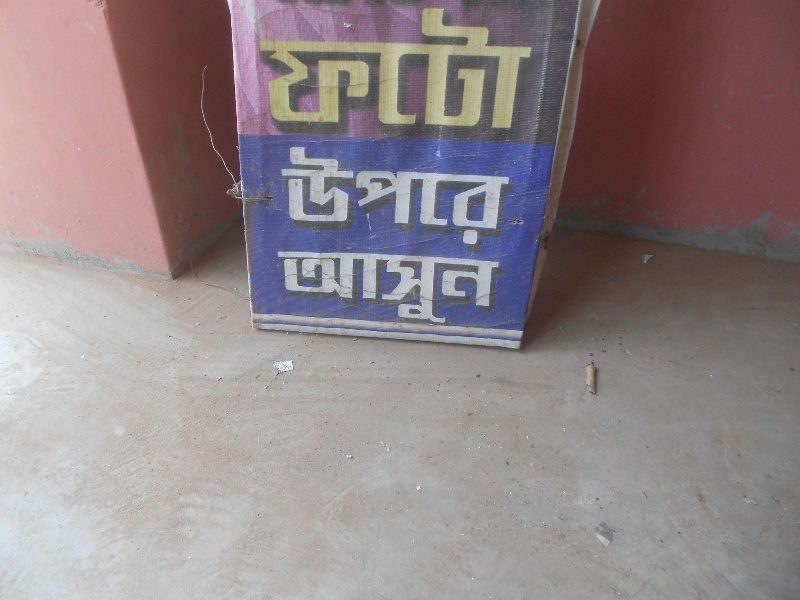text: (273, 3, 288, 141), (289, 3, 304, 141), (305, 3, 320, 141), (321, 3, 336, 141), (337, 3, 352, 141), (353, 3, 368, 141), (369, 3, 384, 141), (385, 3, 400, 141), (401, 3, 416, 141), (417, 3, 432, 141), (433, 3, 448, 141), (449, 3, 464, 141), (465, 3, 480, 141), (481, 3, 496, 141), (497, 3, 512, 141), (513, 3, 528, 141), (260, 3, 272, 141), (289, 144, 304, 246), (305, 144, 320, 246), (321, 144, 336, 246), (337, 144, 352, 246), (353, 144, 368, 246), (369, 144, 384, 246), (385, 144, 400, 246), (401, 144, 416, 246), (417, 144, 432, 246), (433, 144, 448, 246), (449, 144, 464, 246), (465, 144, 480, 246), (481, 144, 496, 246), (529, 3, 540, 141), (497, 144, 510, 246), (289, 246, 304, 325), (305, 246, 320, 325), (321, 246, 336, 325), (337, 246, 352, 325), (353, 246, 368, 325), (369, 246, 384, 325), (385, 246, 400, 325), (401, 246, 416, 325), (417, 246, 432, 325), (433, 246, 448, 325), (449, 246, 464, 325), (465, 246, 480, 325), (481, 246, 496, 325), (274, 246, 288, 325), (281, 144, 288, 246), (497, 246, 503, 325)
